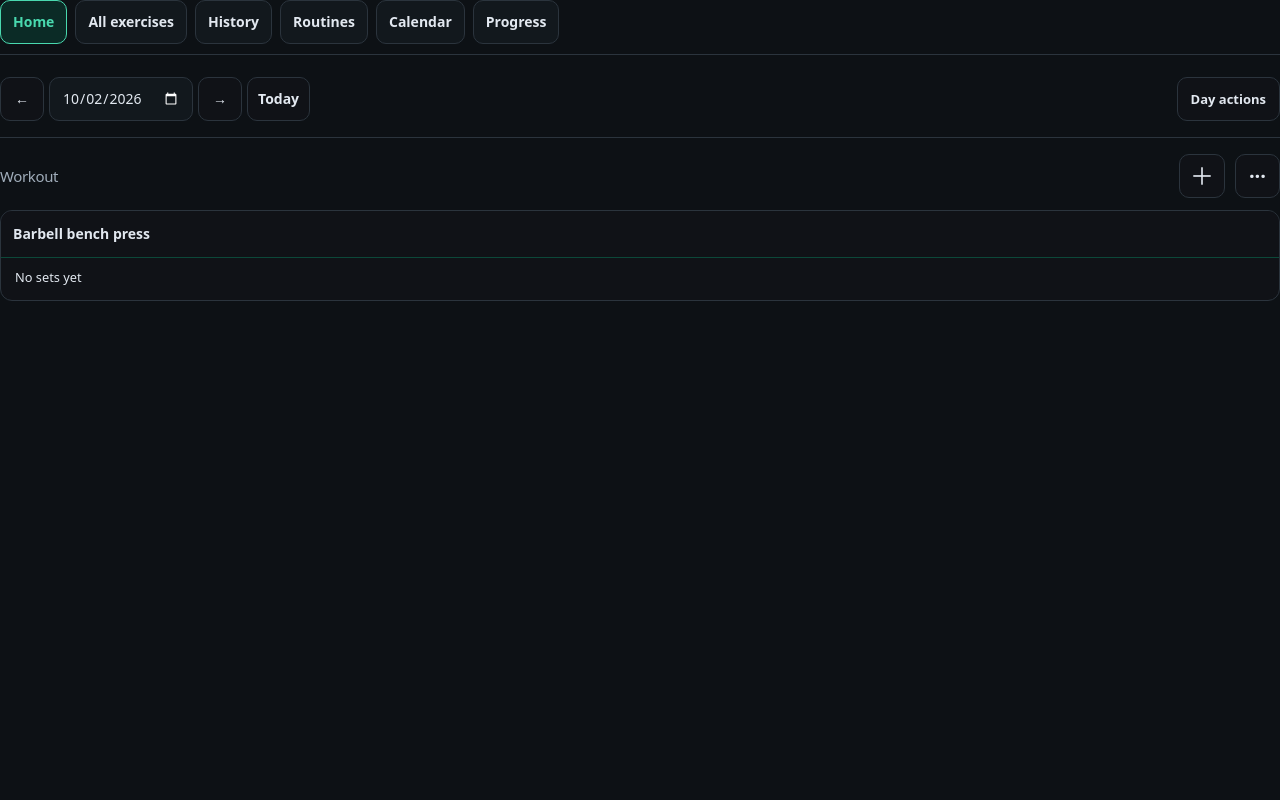
Test: opens Home duration correction from More actions without starting timing
Expected: the heading "Workout" is shown, [0,166,58,186]
Expected: the button "Correct duration" is not shown
Click the heading "More actions ···" at (1257,176), box [1235,154,1279,198]
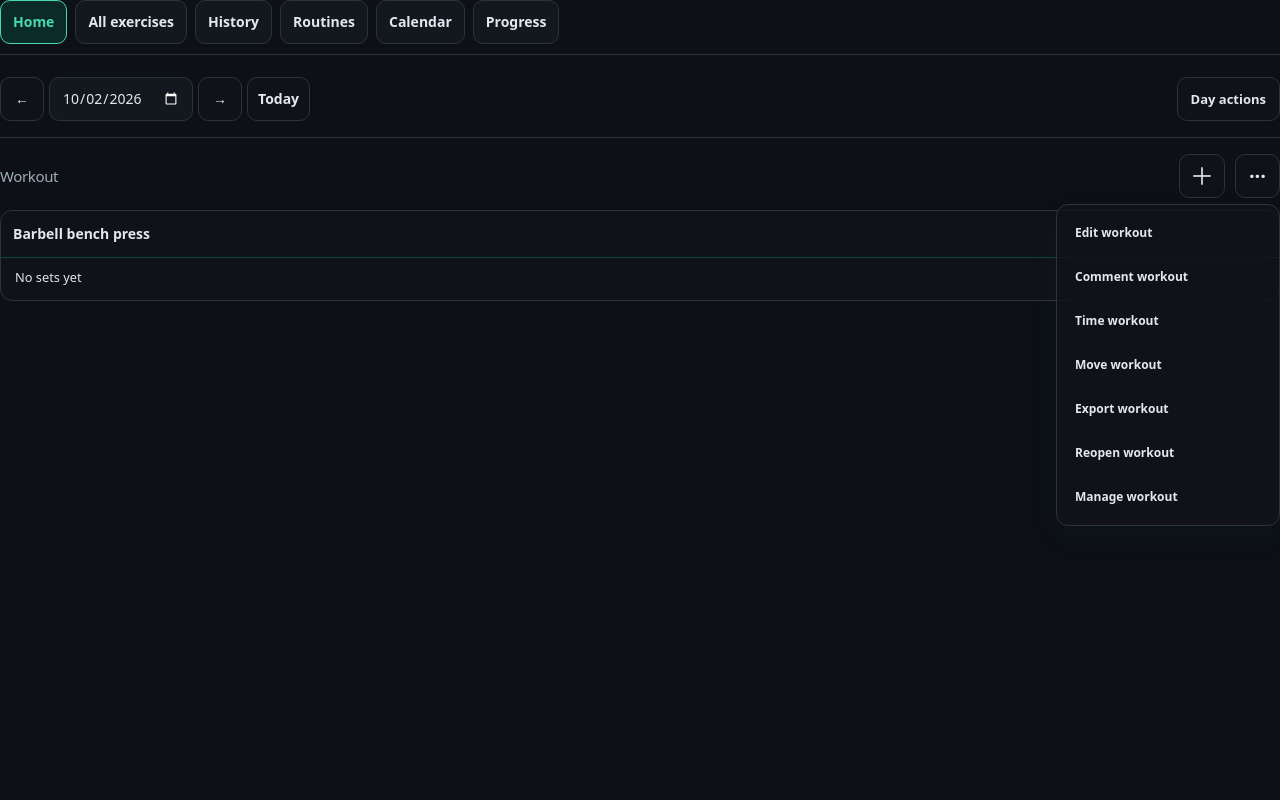
Click the button "Time workout" at (1168,321), box [1063,299,1273,343]
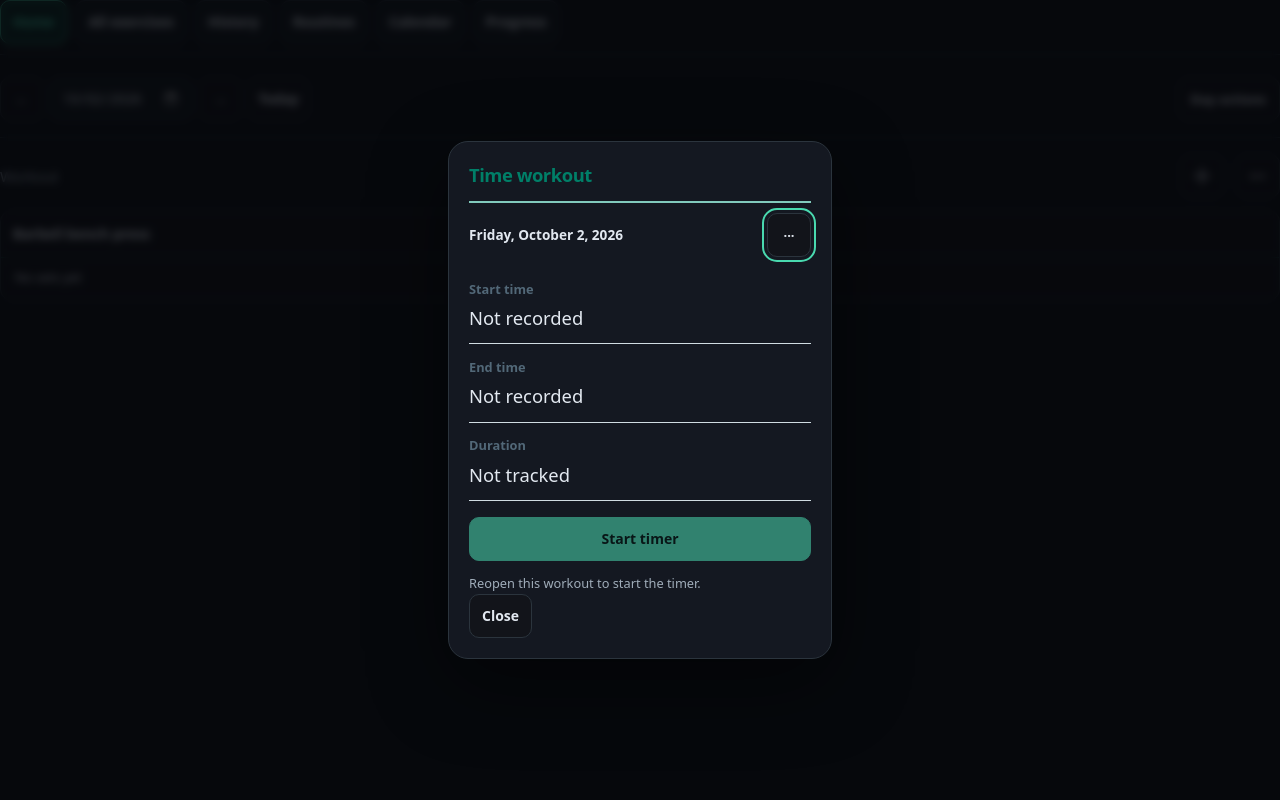
Click the heading named "Timing options" at (789,234), box [767,212,811,256]
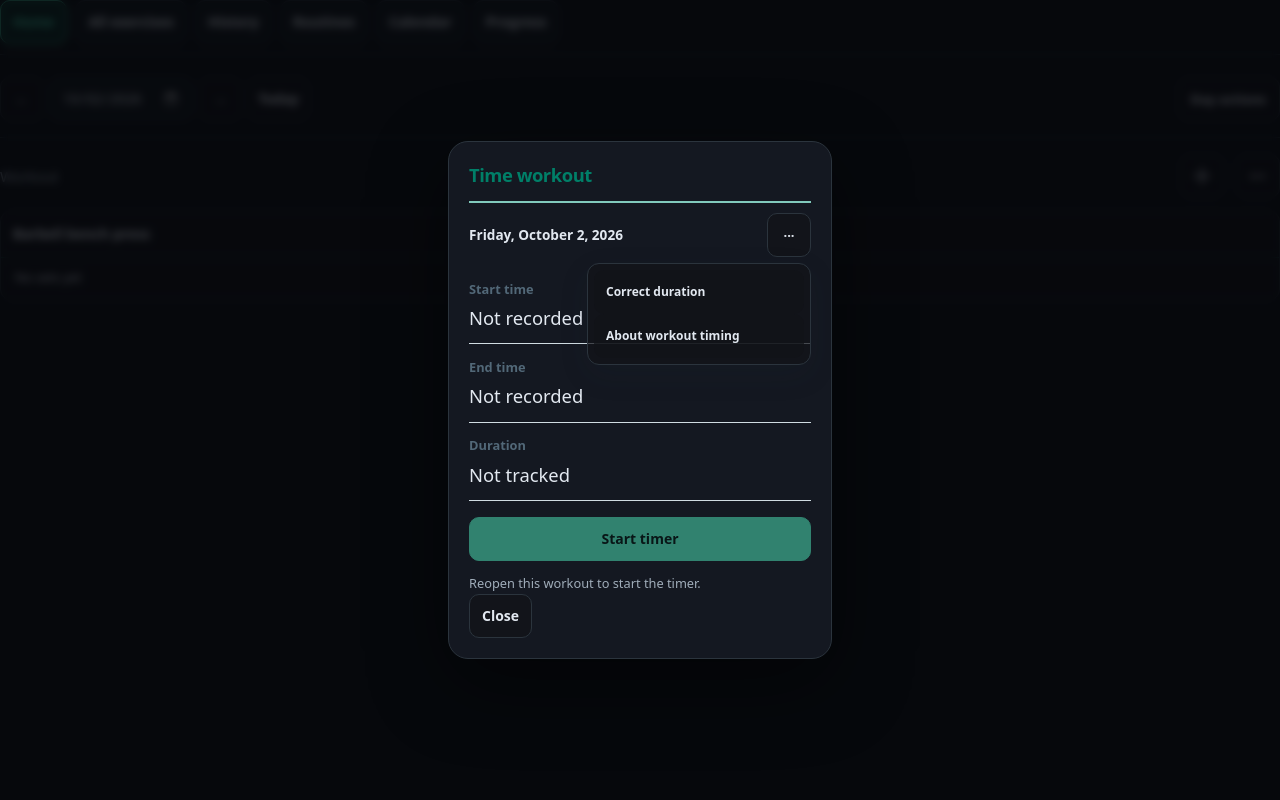
Click the button "Correct duration" at (699,292), box [594,270,804,314]
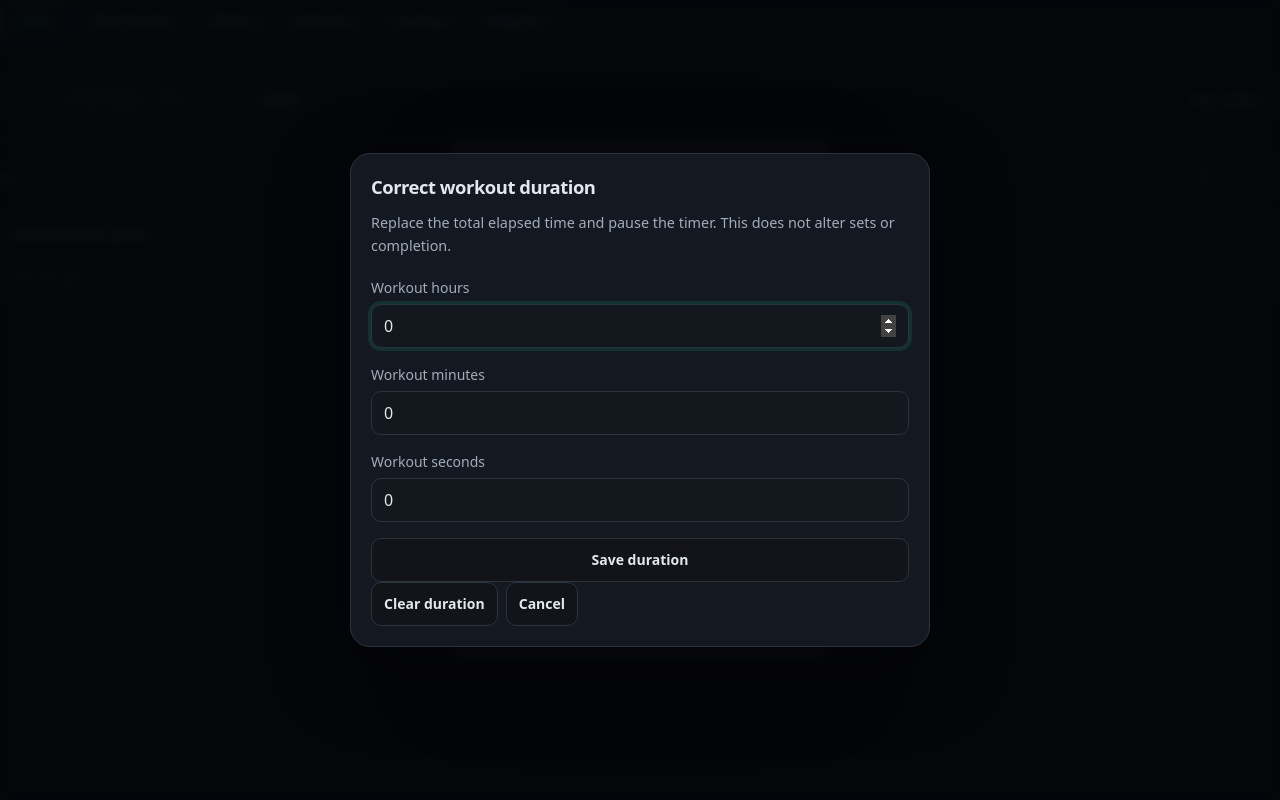
Expected: the dialog "Correct workout duration" is shown, [350,153,930,647]
Click the button "Clear duration" at (434,604), box [371,582,498,626]
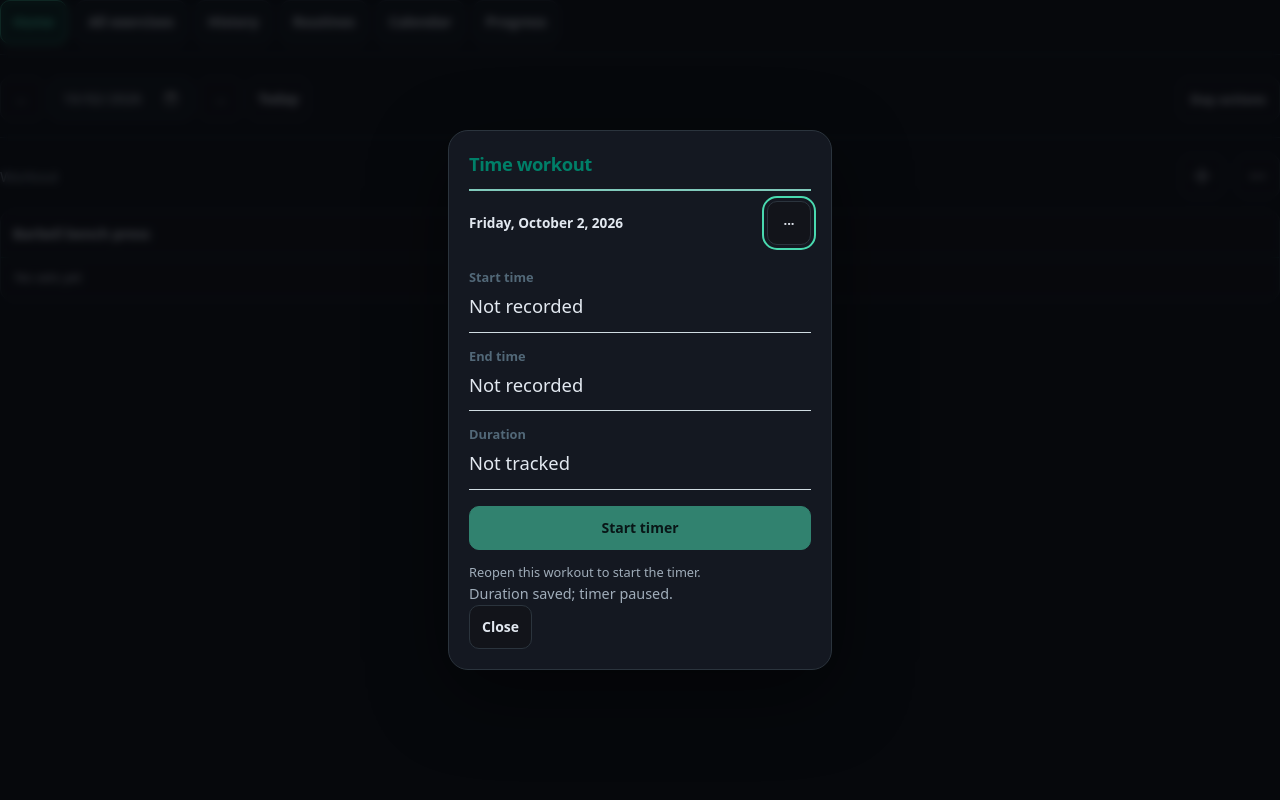
Expected: the dialog "Time workout" is shown, [448,130,832,670]
Expected: the heading "Correct workout duration" is gone
